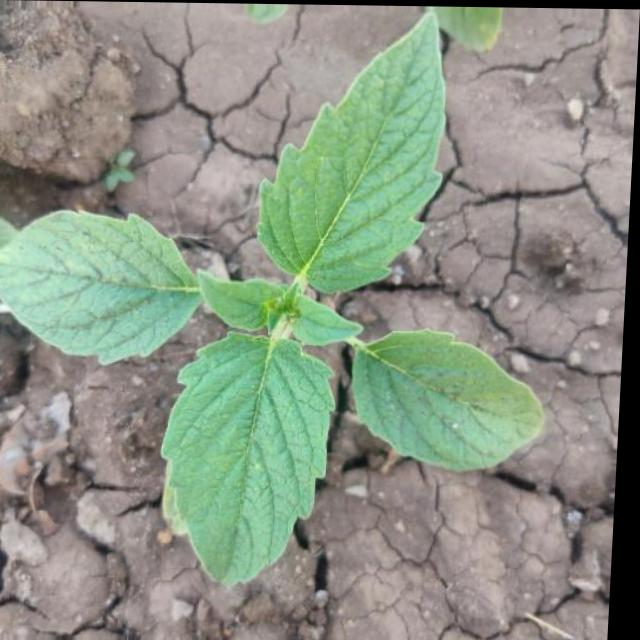crop: (0, 9, 570, 614)
